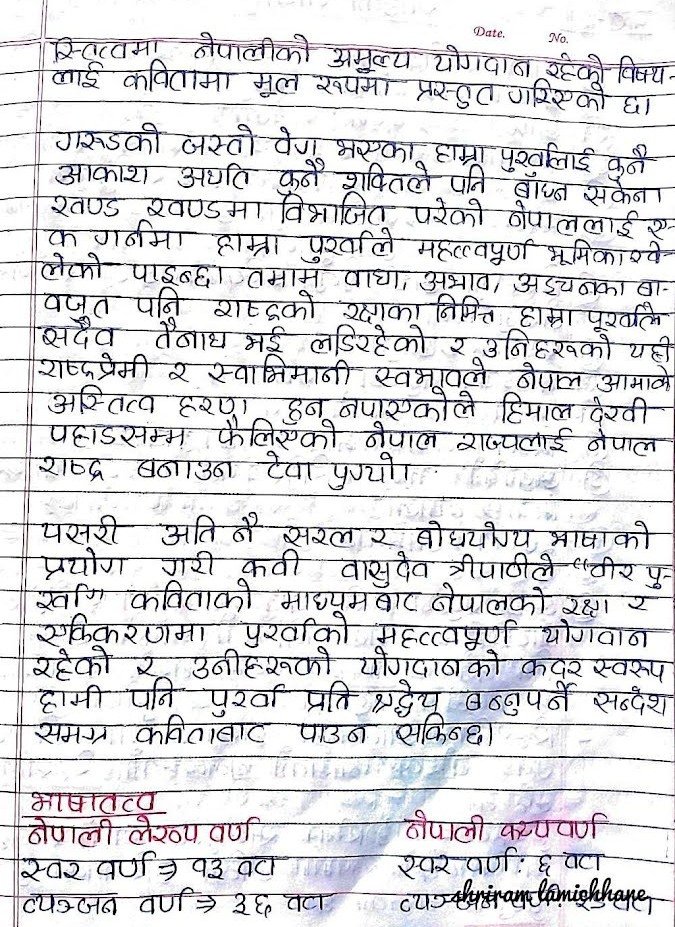text: (32, 613, 209, 646), (507, 199, 638, 240), (336, 386, 479, 423), (187, 646, 338, 680), (129, 574, 254, 614), (356, 645, 503, 679), (206, 354, 356, 387), (216, 413, 340, 452), (134, 711, 272, 746), (370, 617, 519, 649), (462, 677, 578, 718), (482, 328, 616, 363), (274, 584, 423, 614), (274, 191, 391, 228), (43, 421, 191, 450), (191, 31, 317, 65), (415, 517, 533, 553), (121, 57, 235, 94), (308, 322, 429, 356), (240, 611, 353, 647), (431, 41, 534, 80), (416, 234, 537, 267), (509, 268, 628, 301), (369, 356, 491, 388), (339, 548, 436, 588), (496, 809, 610, 843), (53, 121, 163, 156), (549, 516, 653, 553), (428, 584, 551, 615), (35, 350, 154, 382), (447, 550, 559, 584), (506, 77, 611, 113), (47, 384, 158, 418), (539, 617, 652, 649), (213, 288, 319, 322), (299, 228, 398, 264), (498, 140, 598, 175), (144, 194, 264, 223), (338, 159, 434, 195), (40, 544, 128, 583), (27, 789, 161, 814), (399, 808, 487, 846), (394, 712, 485, 748), (49, 33, 165, 61), (455, 427, 575, 453), (179, 121, 258, 160), (206, 680, 285, 719), (24, 816, 116, 849), (20, 889, 121, 919), (28, 646, 114, 681), (326, 451, 397, 493), (414, 76, 498, 111), (130, 456, 235, 484), (90, 222, 190, 251), (36, 512, 121, 546), (496, 389, 574, 426), (589, 685, 673, 719), (53, 161, 154, 189), (369, 678, 443, 716), (546, 237, 627, 271), (326, 43, 417, 73), (38, 315, 118, 349), (584, 299, 663, 333), (126, 259, 214, 289), (333, 132, 418, 163), (410, 195, 487, 229), (153, 319, 230, 353), (363, 420, 444, 452), (36, 681, 107, 717), (38, 249, 111, 284), (340, 296, 425, 326), (593, 364, 674, 395), (176, 161, 254, 192), (123, 816, 201, 847), (591, 653, 670, 683), (241, 263, 325, 291), (36, 452, 109, 484), (32, 718, 115, 746), (157, 511, 218, 549), (540, 50, 608, 84), (513, 361, 585, 393), (311, 73, 399, 99), (432, 292, 498, 326), (584, 393, 653, 425), (416, 265, 492, 294), (586, 428, 659, 458), (41, 291, 109, 323), (581, 175, 651, 206), (292, 719, 372, 746), (281, 523, 359, 550), (134, 283, 186, 323), (174, 393, 253, 419), (605, 142, 656, 182), (261, 449, 316, 486), (45, 193, 123, 219), (239, 548, 303, 579), (18, 855, 81, 886), (510, 171, 571, 203), (515, 301, 576, 333), (276, 159, 327, 197), (466, 841, 521, 876), (127, 678, 181, 713), (270, 123, 322, 159), (211, 231, 283, 257), (303, 679, 355, 715), (614, 53, 667, 86), (95, 848, 155, 877), (136, 886, 194, 916), (157, 550, 218, 578), (398, 851, 458, 879), (249, 68, 301, 100), (431, 138, 491, 165), (339, 265, 401, 291), (518, 656, 586, 679), (559, 591, 613, 619), (233, 853, 287, 881), (51, 62, 106, 89), (624, 334, 673, 363), (229, 509, 264, 549), (589, 554, 637, 583), (208, 815, 259, 842), (231, 890, 274, 921), (448, 162, 487, 196), (243, 323, 287, 353), (280, 396, 326, 424), (560, 848, 607, 874), (35, 586, 84, 610), (282, 890, 333, 913), (189, 854, 226, 884), (628, 241, 666, 269), (42, 226, 79, 248), (623, 592, 656, 616), (635, 274, 663, 300), (133, 653, 161, 679), (166, 359, 192, 385), (369, 524, 396, 549), (619, 92, 644, 116), (446, 333, 469, 356), (536, 850, 554, 878)
